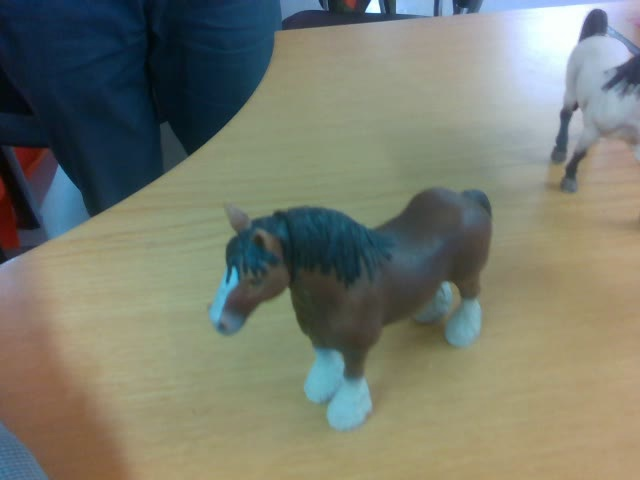toy: (209, 187, 492, 428)
